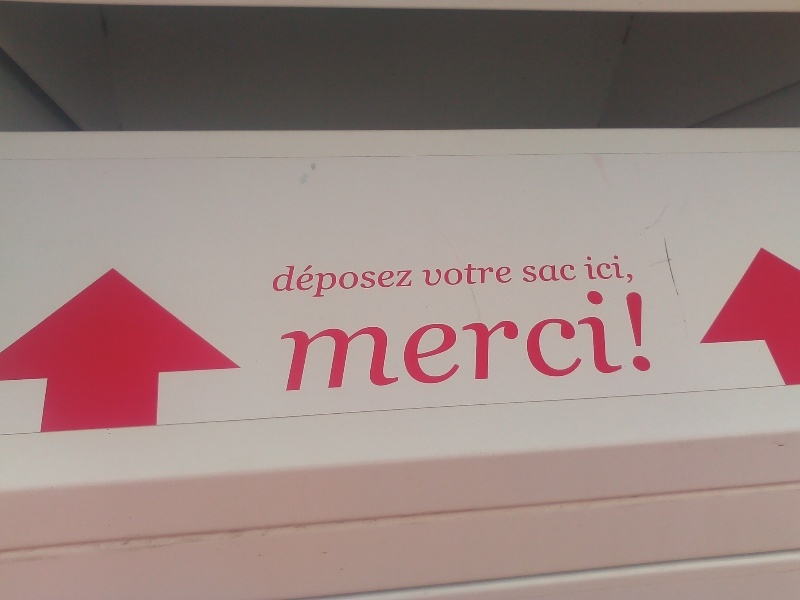text: (289, 284, 304, 395), (305, 284, 320, 395), (321, 284, 336, 395), (337, 284, 352, 395), (353, 284, 368, 395), (369, 284, 384, 395), (385, 284, 400, 395), (401, 284, 416, 395), (417, 284, 432, 395), (433, 284, 448, 395), (449, 284, 464, 395), (465, 284, 480, 395), (481, 284, 496, 395), (497, 284, 512, 395), (513, 284, 528, 395), (529, 284, 544, 395), (545, 284, 560, 395), (561, 284, 576, 395), (577, 284, 592, 395), (593, 284, 608, 395), (609, 284, 624, 395), (625, 284, 640, 395), (641, 284, 654, 395), (281, 284, 288, 395), (289, 265, 304, 300), (305, 265, 320, 300), (321, 265, 336, 300), (337, 265, 352, 300), (353, 265, 368, 300), (369, 265, 384, 300), (385, 265, 400, 300), (593, 255, 608, 286), (609, 255, 624, 286), (275, 265, 288, 300), (401, 265, 414, 300), (433, 263, 448, 287), (449, 263, 464, 287), (465, 263, 480, 287), (481, 263, 496, 287), (497, 263, 512, 287), (561, 265, 577, 283), (583, 255, 592, 286), (625, 255, 634, 286), (529, 265, 544, 283), (545, 265, 560, 283), (421, 263, 432, 287), (523, 265, 528, 283), (513, 263, 514, 287)
